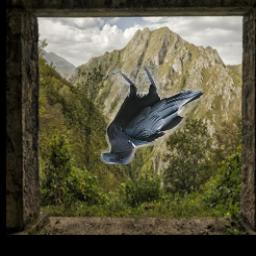Crow: (99, 66, 203, 164)
